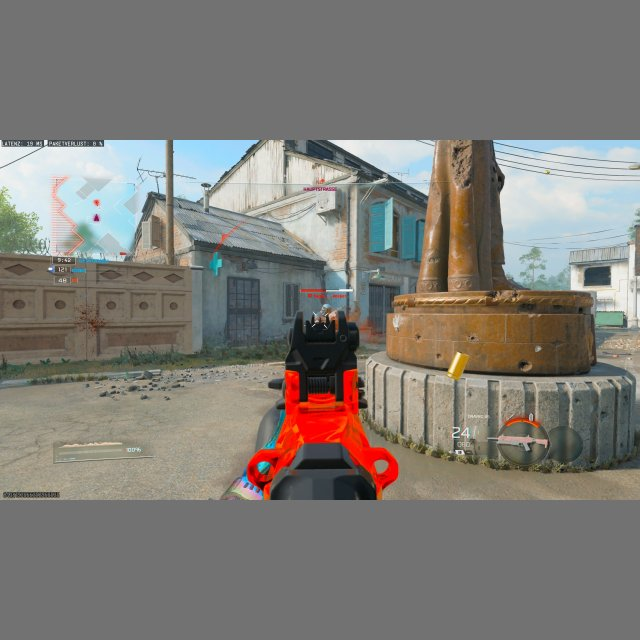player: (320, 303, 332, 322)
